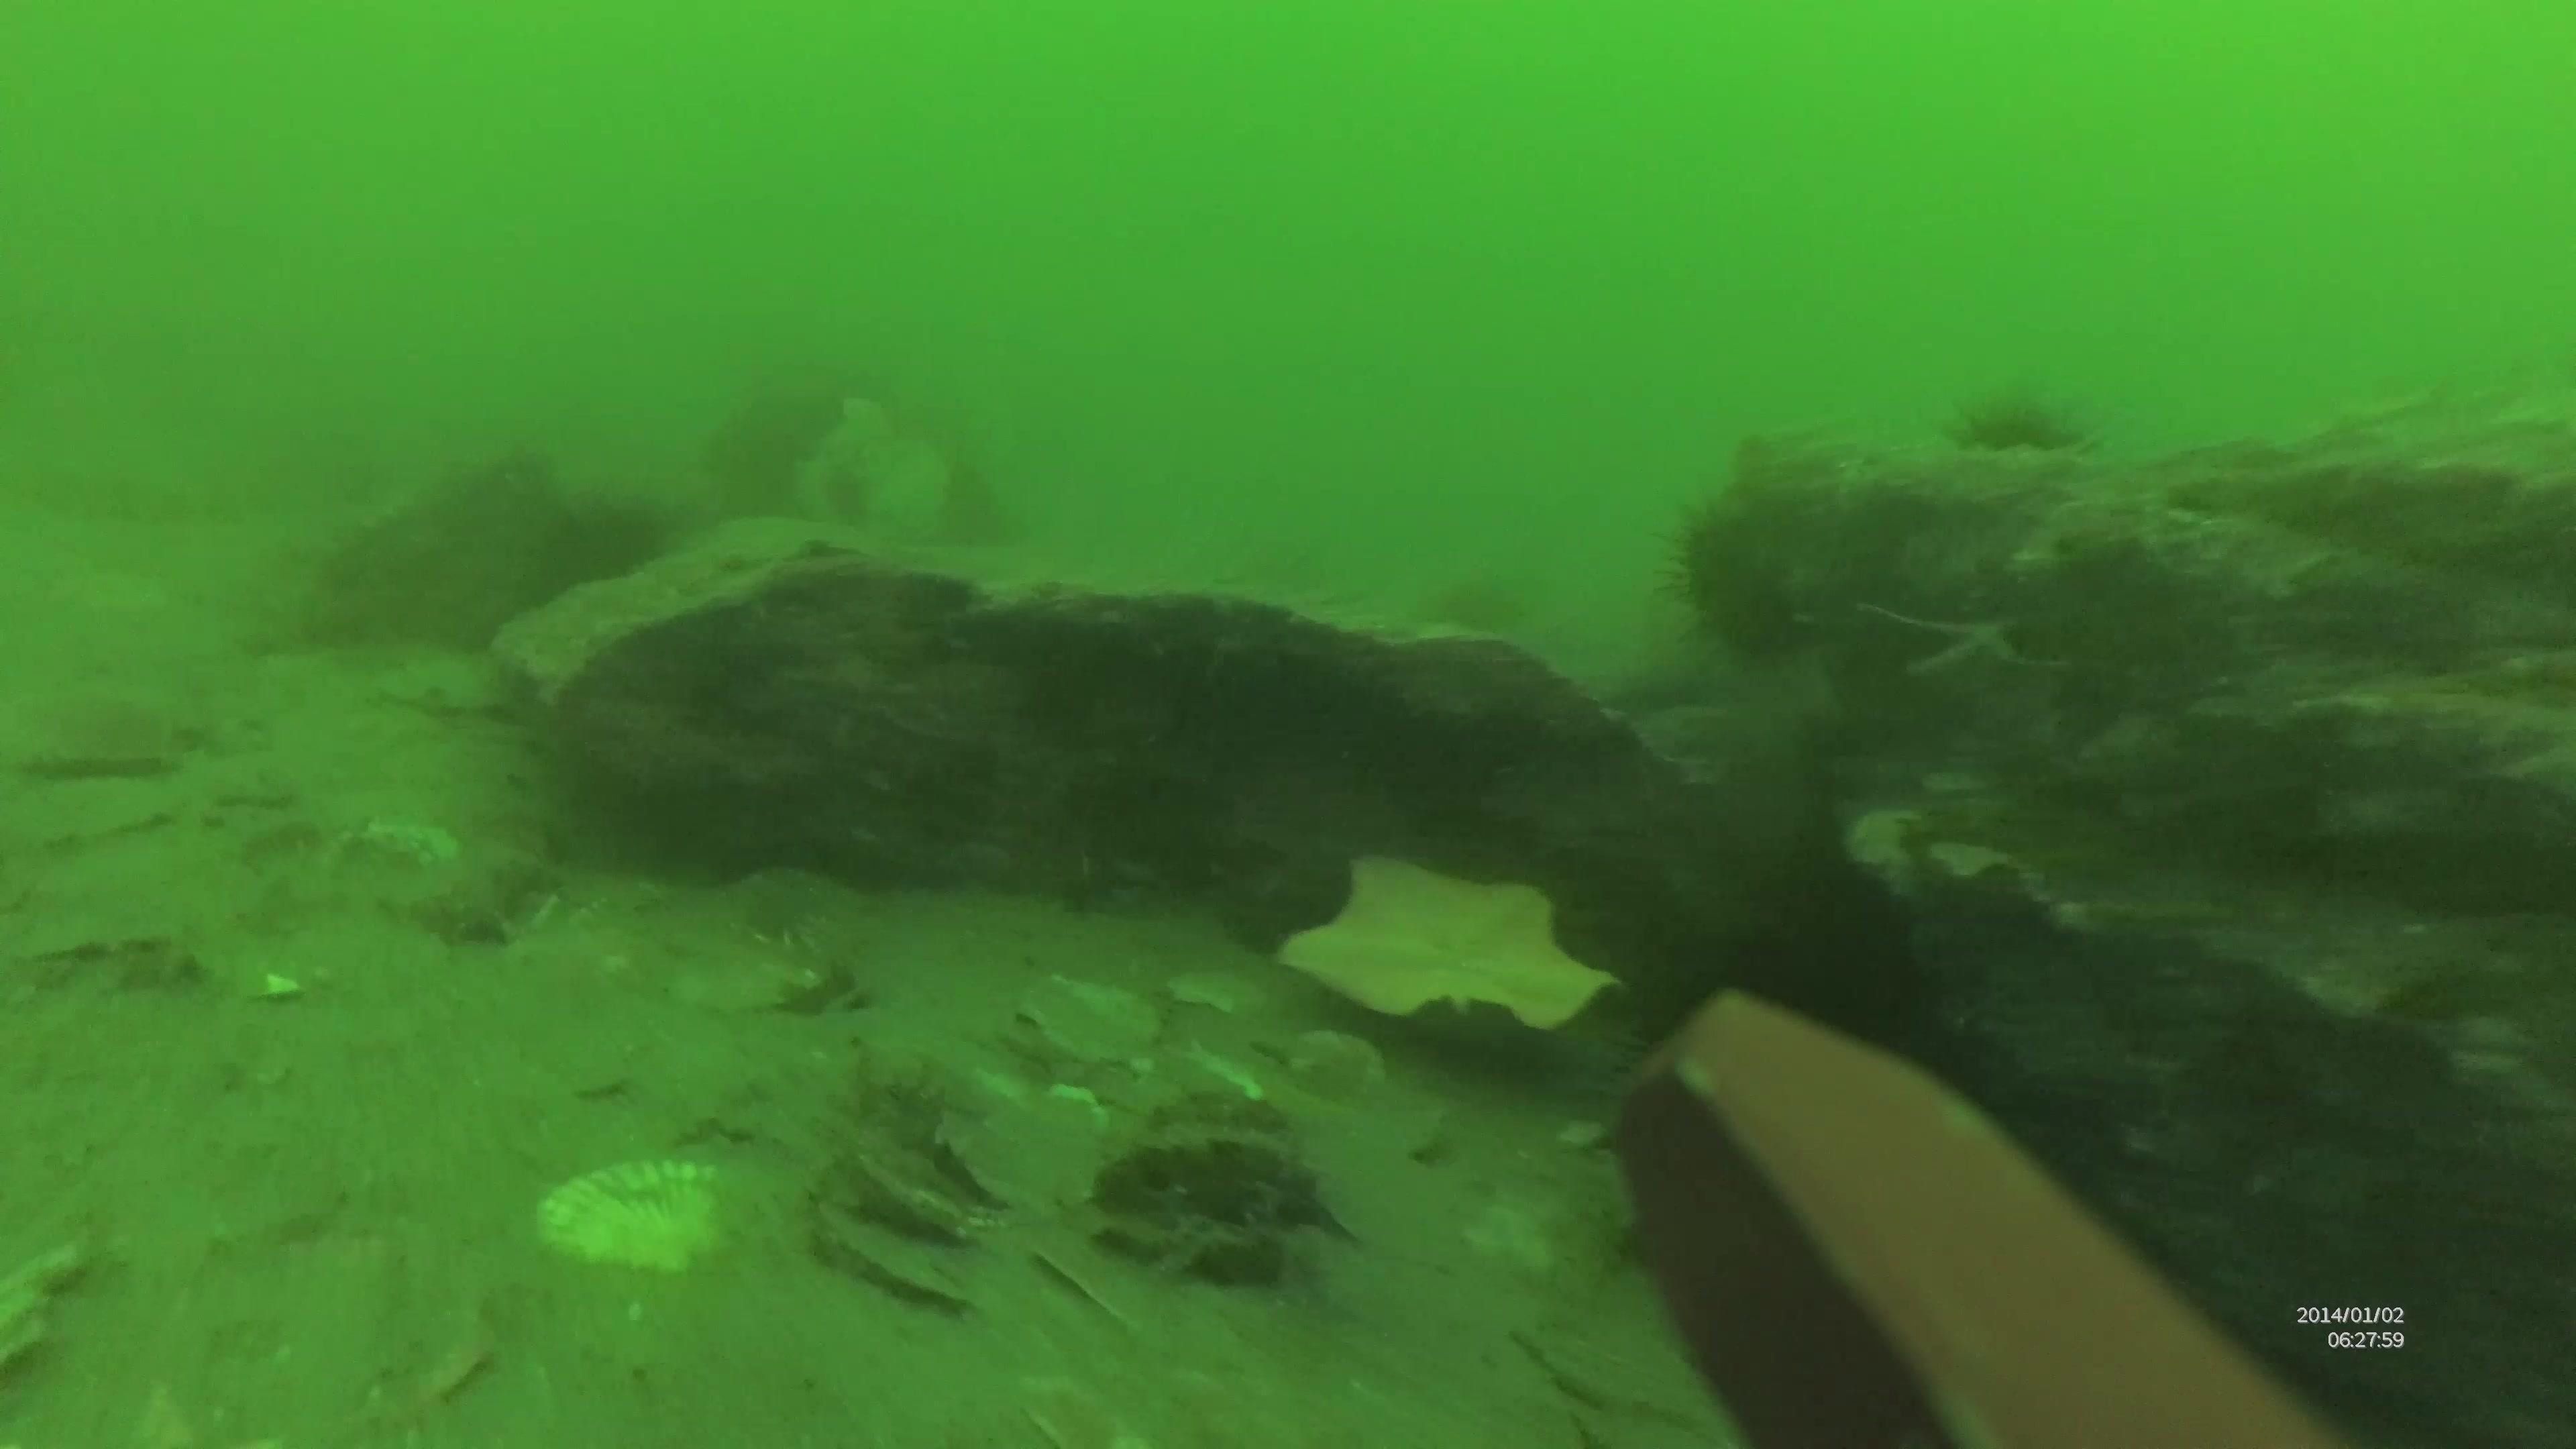echinus: (1658, 472, 1849, 671), (511, 483, 676, 616), (1943, 377, 2100, 467)
scallop: (534, 1148, 731, 1283)
starfish: (1274, 846, 1622, 1049)
